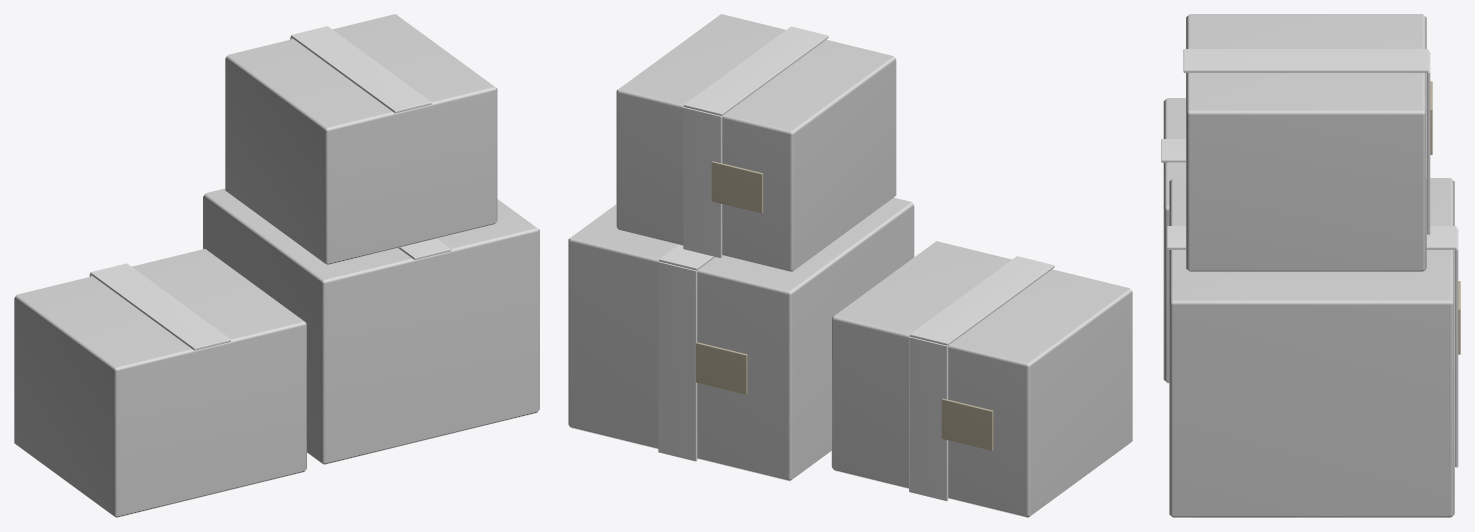
The model's file is CardboardStack02.fbx.
3 renders of one model, left to right at view 1: azimuth 30°, elevation 25°; view 2: azimuth 150°, elevation 25°; view 3: azimuth 270°, elevation 25°, orthographic. The views are drawn at different scales.
Parts seen in each view (by area): view 1: CardboardStack02; view 2: CardboardStack02; view 3: CardboardStack02.
Boxes of the visible parts, x1=… form: CardboardStack02: x1=14, y1=14, x2=539, y2=517; CardboardStack02: x1=568, y1=14, x2=1132, y2=517; CardboardStack02: x1=1161, y1=14, x2=1460, y2=517.
Size of the model in its own units: 104 by 77 by 53.5.
